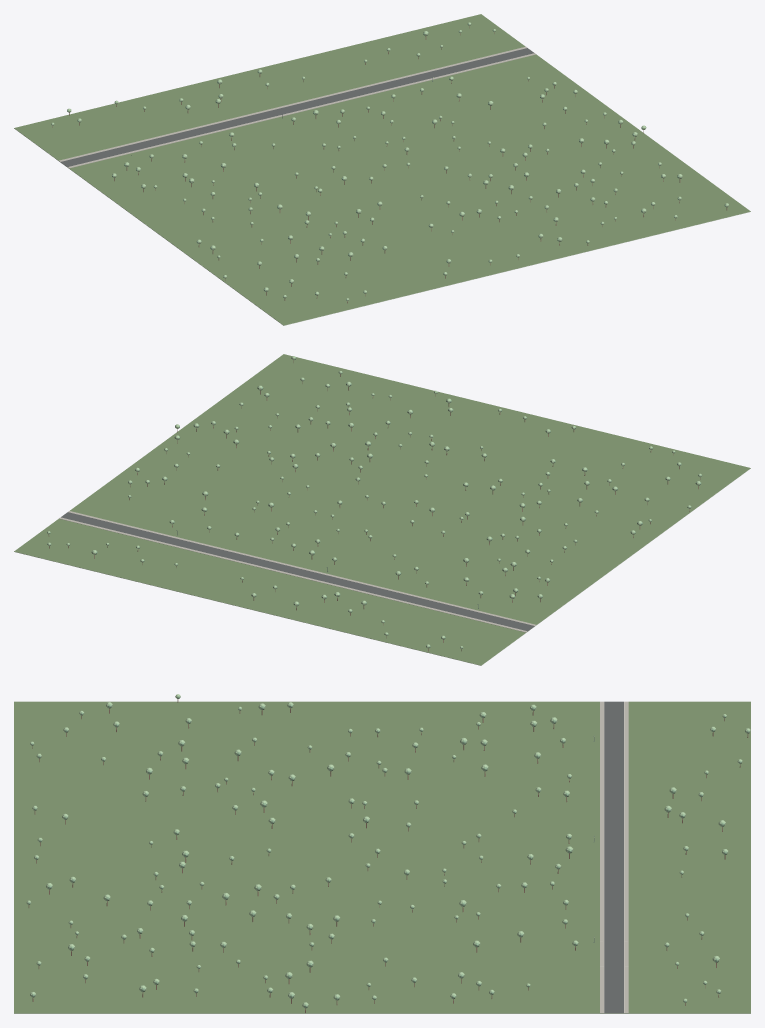
The model's file is chunk_1_4_high.glb.
The picture shows the model from 3 angles, top to bottom: view 1: azimuth 30°, elevation 25°; view 2: azimuth 150°, elevation 25°; view 3: azimuth 270°, elevation 25°; orthographic projection. The views are drawn at different scales.
Visible parts, largest first — view 1: city_forest_floor, city_world_asphalt, city_foliage, city_world_sidewalk, city_foliage_dark, city_grass, city_bark, city_curb; view 2: city_forest_floor, city_world_asphalt, city_foliage, city_world_sidewalk, city_foliage_dark, city_grass, city_bark, city_curb; view 3: city_forest_floor, city_world_asphalt, city_foliage, city_world_sidewalk, city_foliage_dark, city_bark, city_grass, city_curb.
Part boxes in pixels (bbox=[...]): city_forest_floor: bbox=[14, 14, 750, 325]; city_world_asphalt: bbox=[61, 48, 534, 166]; city_foliage: bbox=[51, 22, 728, 300]; city_world_sidewalk: bbox=[59, 46, 536, 168]; city_foliage_dark: bbox=[51, 23, 726, 300]; city_grass: bbox=[14, 128, 750, 325]; city_bark: bbox=[52, 26, 727, 303]; city_curb: bbox=[60, 47, 533, 166]; city_forest_floor: bbox=[14, 354, 750, 665]; city_world_asphalt: bbox=[61, 512, 534, 631]; city_foliage: bbox=[47, 356, 701, 648]; city_world_sidewalk: bbox=[59, 511, 536, 632]; city_foliage_dark: bbox=[47, 357, 702, 648]; city_grass: bbox=[14, 468, 750, 665]; city_bark: bbox=[48, 360, 700, 651]; city_curb: bbox=[62, 512, 534, 631]; city_forest_floor: bbox=[14, 701, 750, 1013]; city_world_asphalt: bbox=[604, 701, 623, 1013]; city_foliage: bbox=[26, 694, 750, 1008]; city_world_sidewalk: bbox=[600, 701, 628, 1013]; city_foliage_dark: bbox=[28, 696, 749, 1007]; city_bark: bbox=[28, 699, 748, 1012]; city_grass: bbox=[14, 1013, 750, 1013]; city_curb: bbox=[600, 701, 628, 1013].
Size of the model in its own units: 515 by 9.76 by 512.
